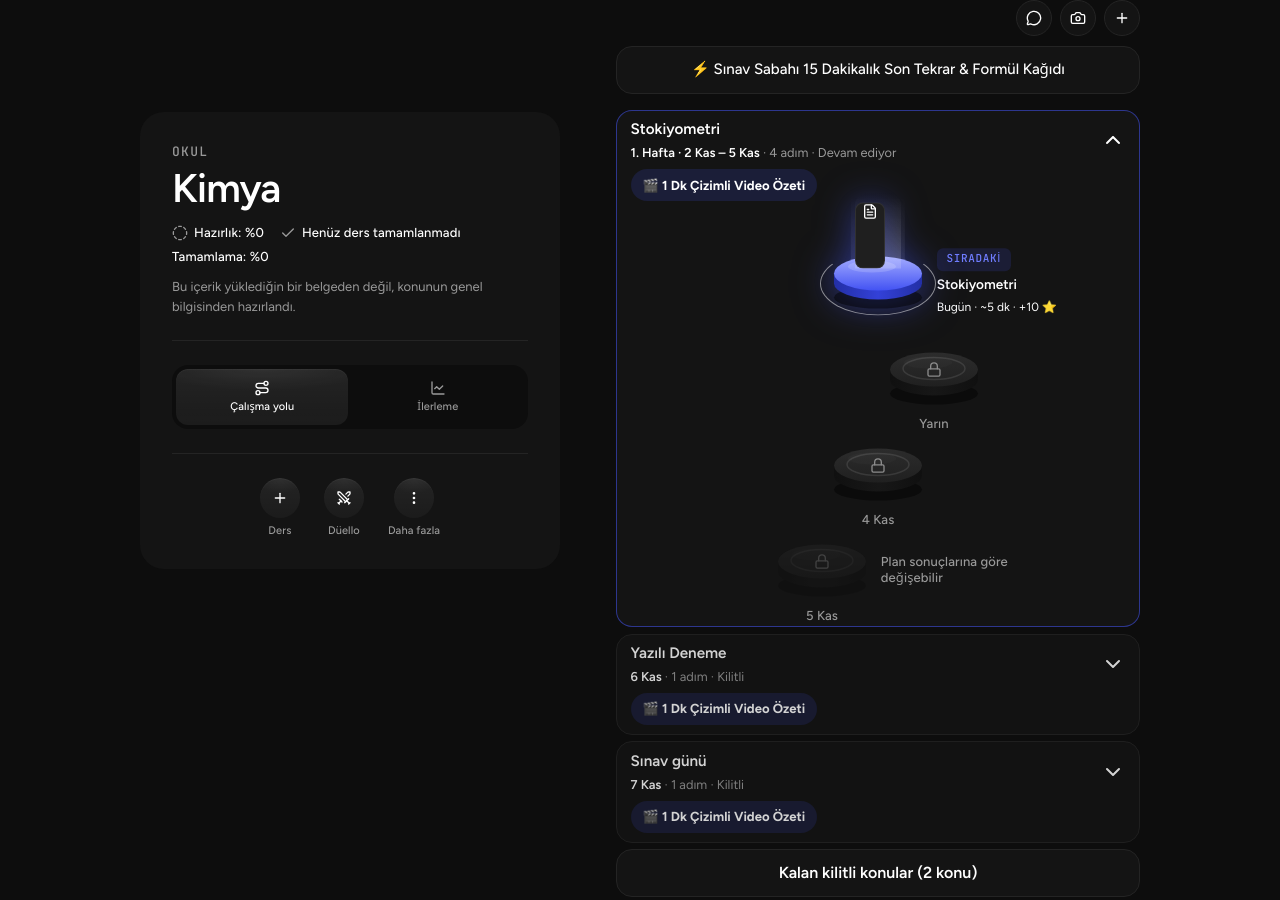
Test case: study tools hub regression › opens a locked oral exam from the hub on a multi-file chemistry prep
Expected: the button named "AI ile Sözlü Deneme, kilitli" is shown, [832,440,924,502]
Click the button with aria-label "Hazırlık seçenekleri" at (414, 508), box [388,478,440,538]
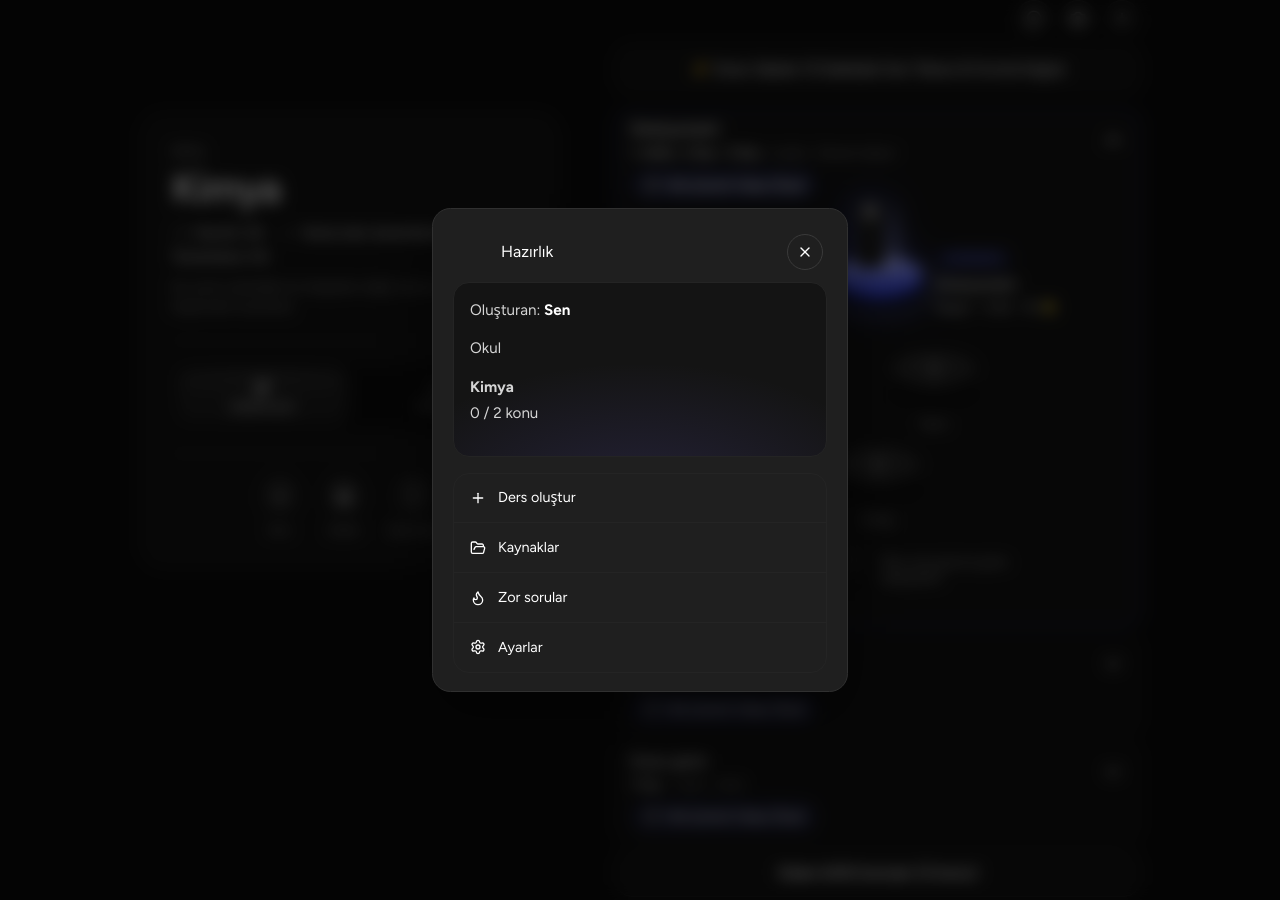
Click the button "Ders oluştur" at (537, 497), box [454,474,826,522]
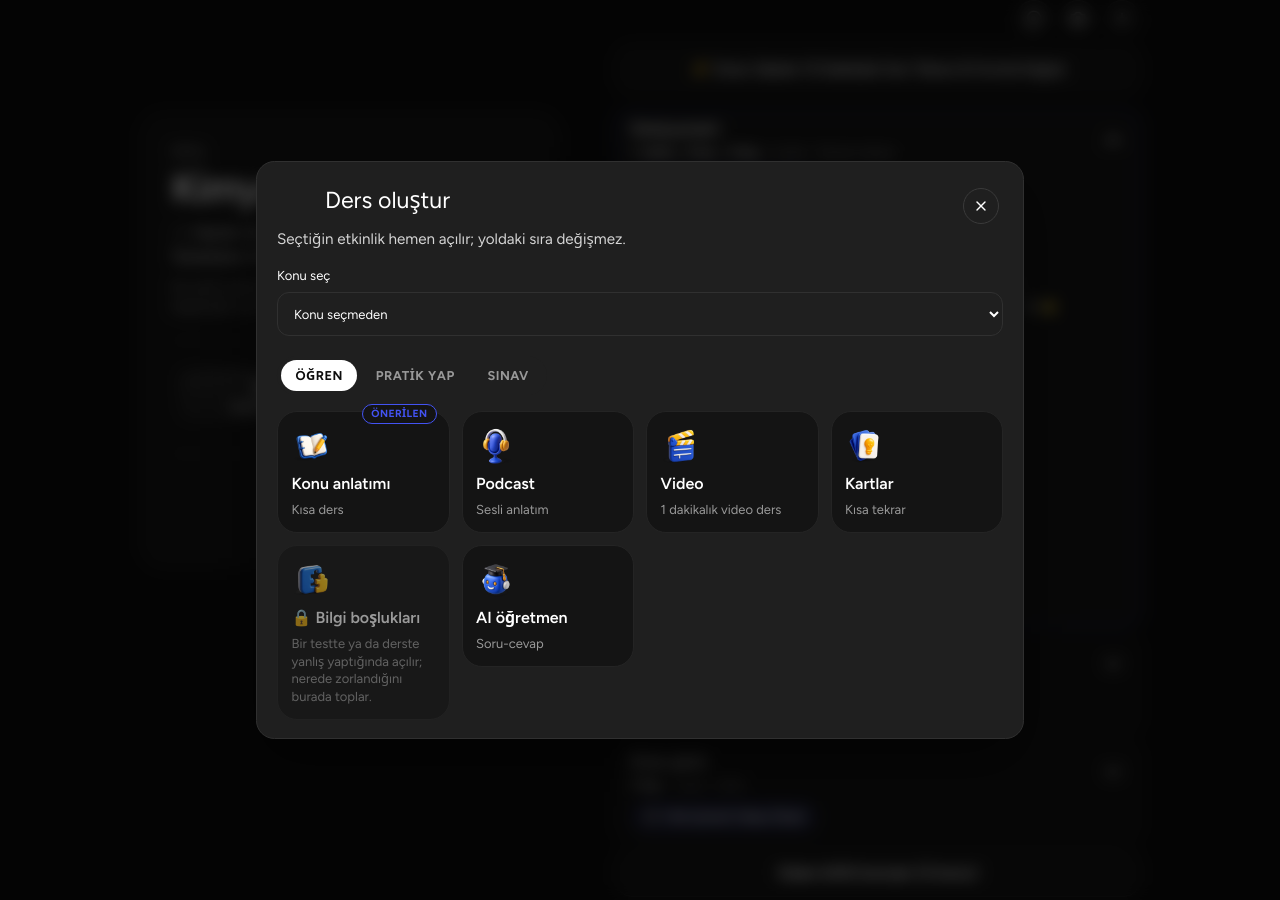
Expected: the dialog "Ders oluştur" is shown, [256,161,1024,739]
Select "Gazlar" in the dropdown labelled "Konu seç" at (640, 314), box [277,292,1003,336]
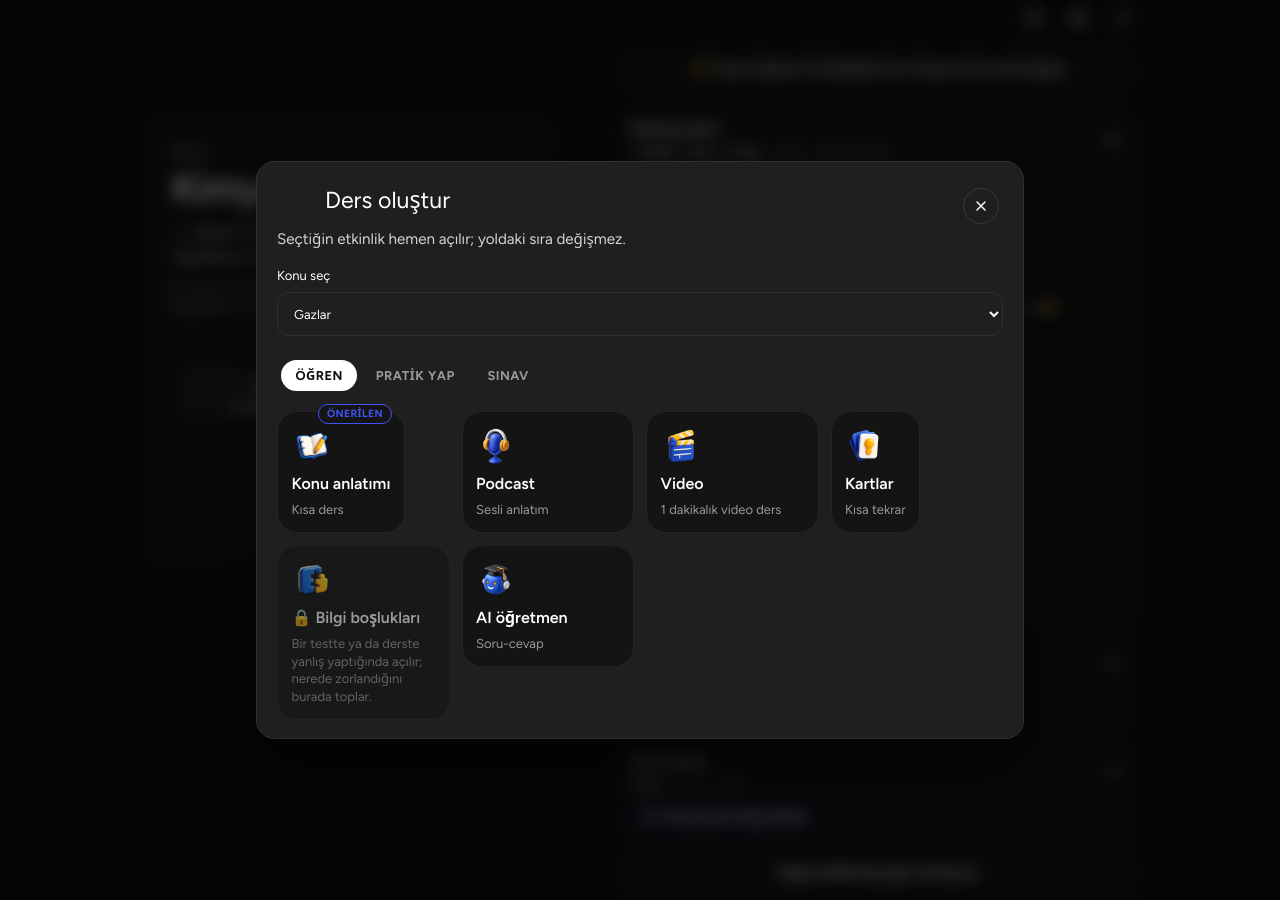
Click the tab "Sınav" at (508, 376), box [473,360,543,392]
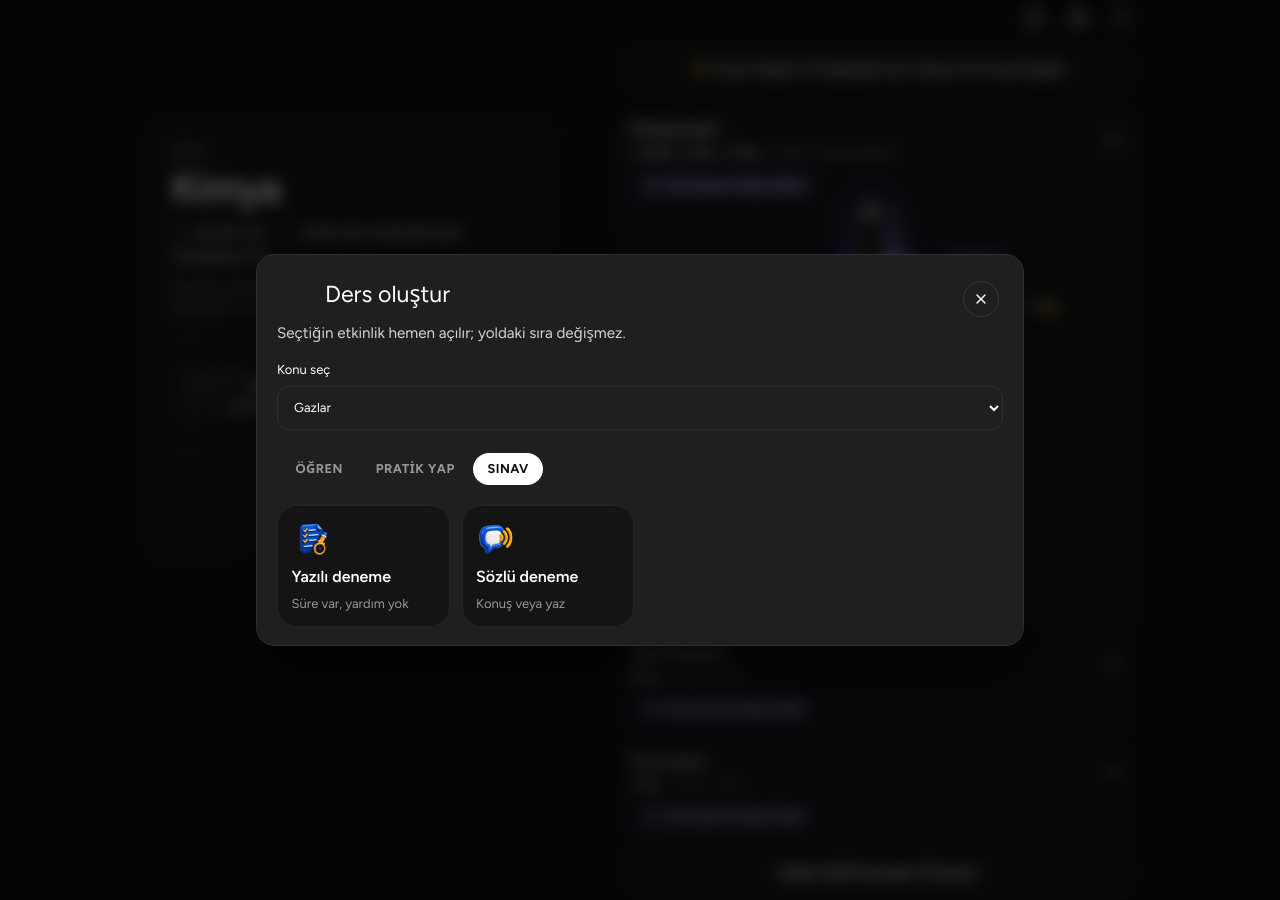
Click the tab "Öğren" at (319, 469), box [281,453,357,485]
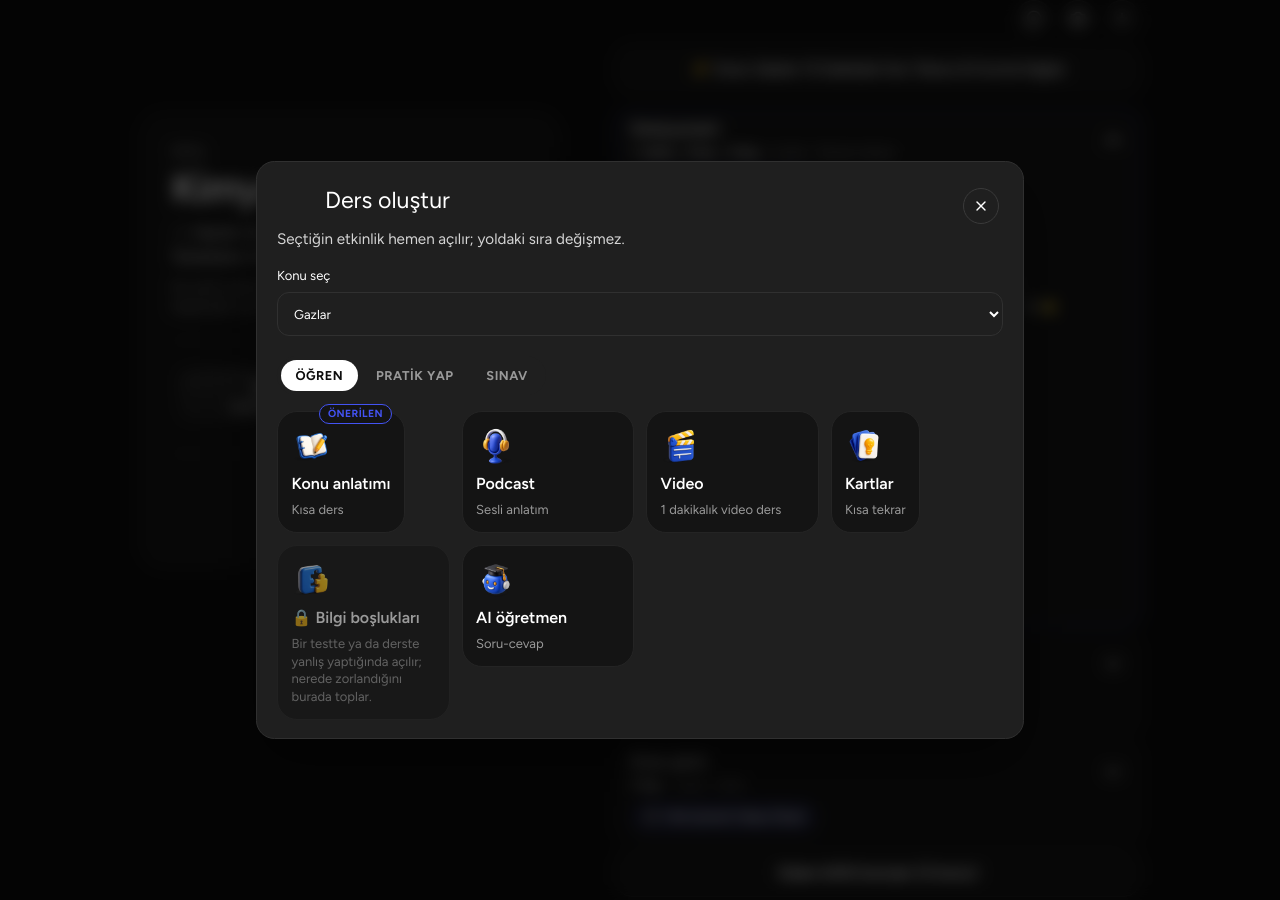
Expected: the button "Kartlar Kısa tekrar" is shown, [830,412,920,533]
